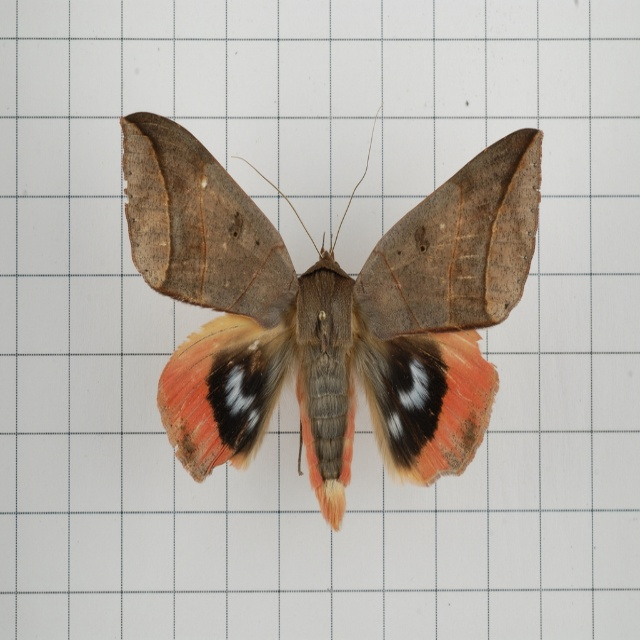Butterfly: (125, 121, 535, 518)
